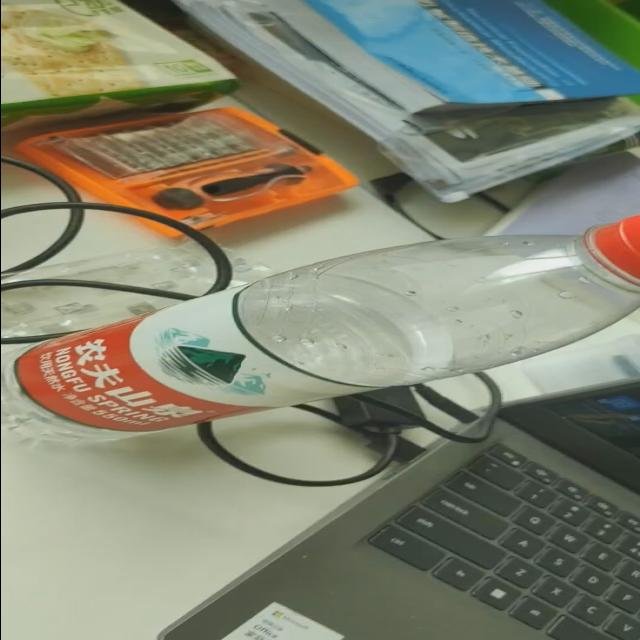寶特瓶: (7, 217, 640, 447)
